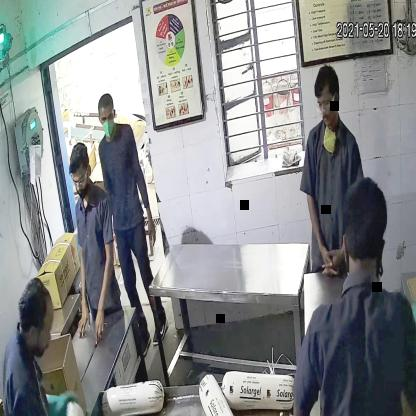goggles: (314, 94, 337, 115), (71, 169, 89, 191)
no_goggles: (97, 110, 117, 126)
